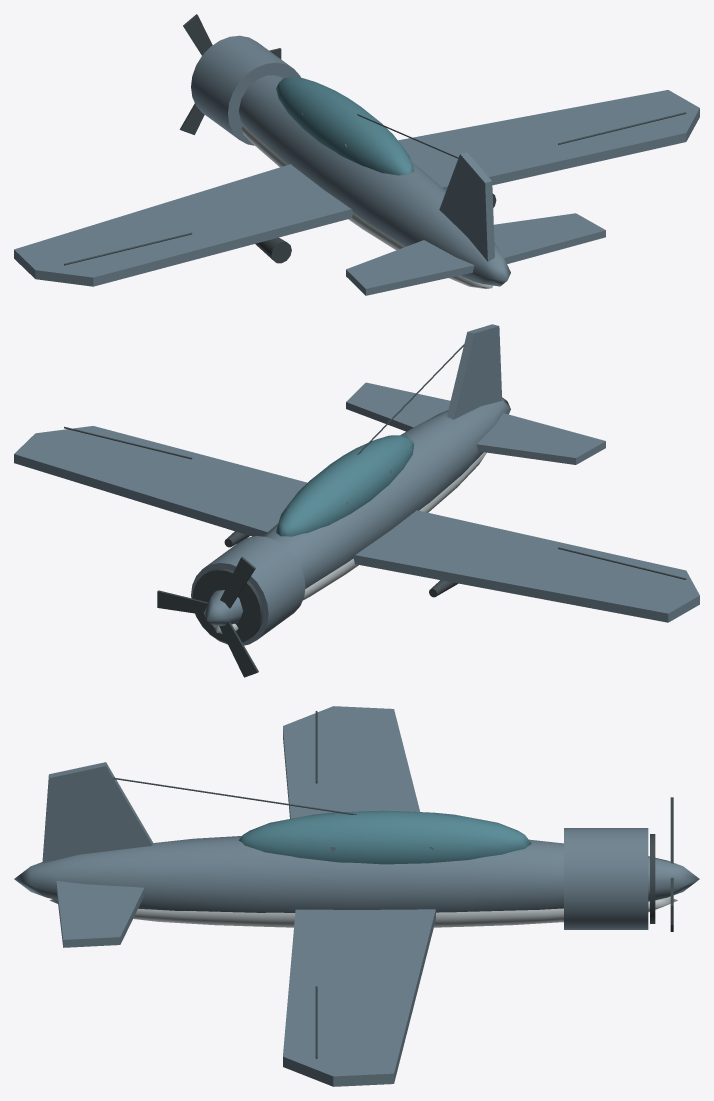
File: generic-ww2-dive.glb
3 views of the same model, one above another, from view 1: azimuth 30°, elevation 25°; view 2: azimuth 150°, elevation 25°; view 3: azimuth 270°, elevation 25° (orthographic). The views are drawn at different scales.
Visible parts, largest first — view 1: ww2-dive_StraightWing, ww2-dive_StraightWing.001, ww2-dive_PistonFuselage, ww2-dive_Canopy, ww2-dive_RadialEngine, ww2-dive_HorizontalTail, ww2-dive_SingleVerticalTail, ww2-dive_HorizontalTail.001, ww2-dive_PaleUnderside, ww2-dive_Propeller, ww2-dive_ExternalBomb; view 2: ww2-dive_StraightWing, ww2-dive_StraightWing.001, ww2-dive_PistonFuselage, ww2-dive_Canopy, ww2-dive_RadialEngine, ww2-dive_HorizontalTail, ww2-dive_SingleVerticalTail, ww2-dive_HorizontalTail.001, ww2-dive_Propeller, ww2-dive_EngineOpening, ww2-dive_PaleUnderside; view 3: ww2-dive_PistonFuselage, ww2-dive_StraightWing.001, ww2-dive_StraightWing, ww2-dive_Canopy, ww2-dive_RadialEngine, ww2-dive_SingleVerticalTail, ww2-dive_HorizontalTail.001, ww2-dive_PaleUnderside.
Part boxes in pixels (x1=…): ww2-dive_StraightWing: x1=14, y1=164, x2=353, y2=286; ww2-dive_StraightWing.001: x1=398, y1=90, x2=699, y2=190; ww2-dive_PistonFuselage: x1=238, y1=75, x2=510, y2=286; ww2-dive_Canopy: x1=276, y1=77, x2=413, y2=175; ww2-dive_RadialEngine: x1=191, y1=35, x2=300, y2=145; ww2-dive_HorizontalTail: x1=346, y1=240, x2=474, y2=295; ww2-dive_SingleVerticalTail: x1=439, y1=152, x2=494, y2=261; ww2-dive_HorizontalTail.001: x1=494, y1=213, x2=605, y2=263; ww2-dive_PaleUnderside: x1=241, y1=124, x2=492, y2=288; ww2-dive_Propeller: x1=179, y1=14, x2=281, y2=134; ww2-dive_ExternalBomb: x1=255, y1=237, x2=291, y2=263; ww2-dive_StraightWing: x1=353, y1=510, x2=699, y2=622; ww2-dive_StraightWing.001: x1=14, y1=426, x2=307, y2=536; ww2-dive_PistonFuselage: x1=204, y1=397, x2=510, y2=626; ww2-dive_Canopy: x1=276, y1=435, x2=413, y2=536; ww2-dive_RadialEngine: x1=191, y1=536, x2=305, y2=645; ww2-dive_HorizontalTail: x1=476, y1=413, x2=605, y2=464; ww2-dive_SingleVerticalTail: x1=447, y1=324, x2=502, y2=419; ww2-dive_HorizontalTail.001: x1=346, y1=382, x2=450, y2=431; ww2-dive_Propeller: x1=157, y1=556, x2=258, y2=677; ww2-dive_EngineOpening: x1=192, y1=568, x2=263, y2=642; ww2-dive_PaleUnderside: x1=214, y1=452, x2=486, y2=633; ww2-dive_PistonFuselage: x1=14, y1=836, x2=699, y2=912; ww2-dive_StraightWing.001: x1=283, y1=909, x2=435, y2=1086; ww2-dive_StraightWing: x1=283, y1=706, x2=419, y2=818; ww2-dive_Canopy: x1=239, y1=810, x2=531, y2=864; ww2-dive_RadialEngine: x1=564, y1=828, x2=648, y2=929; ww2-dive_SingleVerticalTail: x1=42, y1=762, x2=153, y2=863; ww2-dive_HorizontalTail.001: x1=56, y1=881, x2=144, y2=947; ww2-dive_PaleUnderside: x1=49, y1=897, x2=677, y2=927.
Bounding box in the file's own units: 13 × 2.95 × 10.18.
